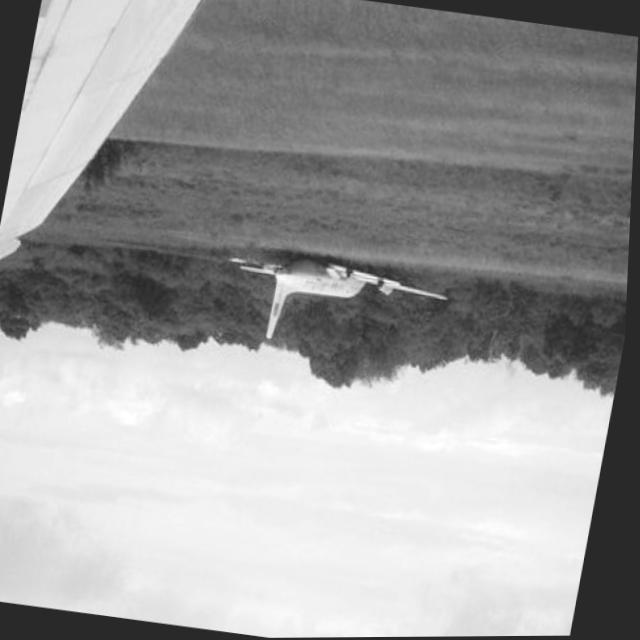aeroplane: (224, 243, 453, 366)
